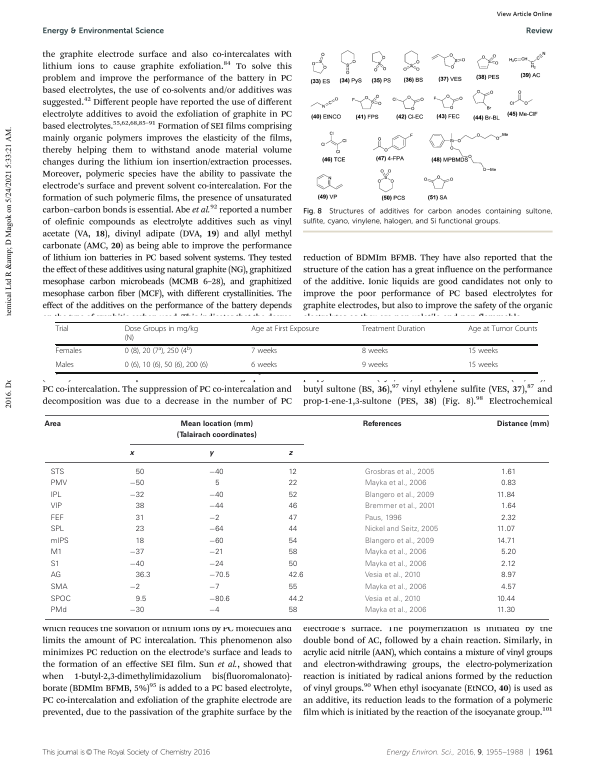borderless: (44, 414, 549, 619), (54, 321, 537, 372)
cell: (176, 420, 258, 440), (124, 325, 199, 343), (124, 361, 209, 371), (124, 345, 193, 357), (364, 525, 439, 534), (364, 503, 436, 512), (364, 468, 435, 477), (364, 491, 435, 500), (364, 537, 435, 546), (467, 325, 538, 334), (250, 325, 320, 334), (361, 325, 426, 334), (364, 560, 427, 569), (364, 583, 427, 592), (364, 606, 427, 615), (364, 572, 421, 581), (364, 595, 421, 604), (364, 480, 427, 488), (364, 549, 427, 557), (496, 420, 550, 428), (364, 514, 403, 523), (362, 420, 403, 428), (467, 347, 499, 357), (467, 361, 499, 371), (250, 347, 278, 357), (361, 347, 389, 357), (250, 361, 278, 371), (361, 361, 389, 371), (55, 347, 82, 357), (54, 361, 75, 371), (208, 572, 231, 581), (208, 595, 231, 604), (50, 595, 72, 604), (496, 491, 516, 500), (496, 525, 516, 534), (50, 537, 70, 546), (496, 537, 516, 546), (496, 595, 516, 604), (496, 606, 516, 615), (50, 583, 68, 592), (50, 606, 68, 615), (208, 468, 225, 477), (500, 468, 517, 477), (208, 491, 225, 500), (208, 503, 225, 512), (500, 503, 517, 512), (500, 514, 517, 523), (208, 525, 225, 534), (208, 537, 225, 546), (208, 549, 225, 558), (208, 560, 225, 569), (500, 572, 517, 581), (500, 583, 517, 592), (43, 420, 62, 428), (50, 480, 68, 488), (129, 491, 145, 500), (129, 549, 145, 558), (129, 560, 145, 569), (500, 560, 516, 569), (135, 572, 151, 581), (288, 572, 304, 581), (288, 595, 304, 604), (129, 606, 145, 615), (500, 480, 517, 488), (500, 549, 517, 557), (50, 468, 65, 477), (50, 514, 65, 523), (50, 525, 65, 534), (129, 480, 145, 488), (55, 325, 69, 334), (50, 491, 63, 500), (50, 503, 63, 512), (50, 549, 63, 558), (208, 514, 220, 523), (50, 572, 62, 581), (129, 583, 141, 592), (208, 583, 220, 592), (135, 595, 147, 604), (208, 606, 220, 615), (135, 468, 145, 477), (288, 468, 298, 477), (288, 491, 298, 500), (135, 503, 145, 512), (288, 503, 298, 512), (135, 514, 145, 523), (288, 514, 298, 523), (135, 525, 145, 534), (288, 525, 298, 534), (135, 537, 145, 546), (288, 537, 298, 546), (288, 549, 298, 558), (50, 560, 60, 569), (288, 560, 298, 569), (288, 583, 298, 592), (288, 606, 298, 615), (288, 480, 298, 488), (214, 480, 220, 488), (129, 451, 135, 458), (208, 451, 214, 458), (288, 451, 293, 458)
